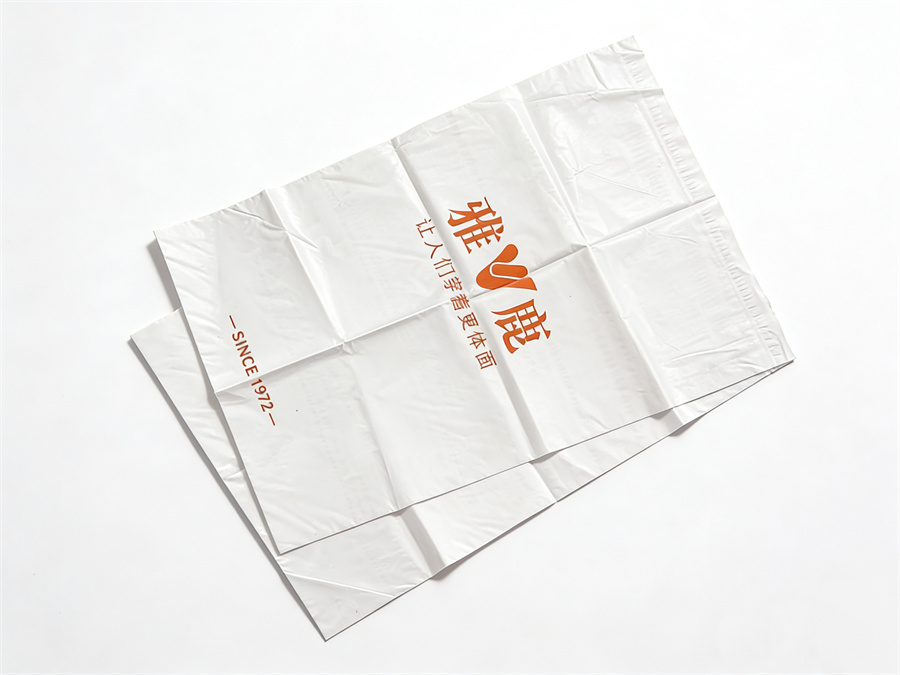塑料袋: (131, 42, 792, 639)
